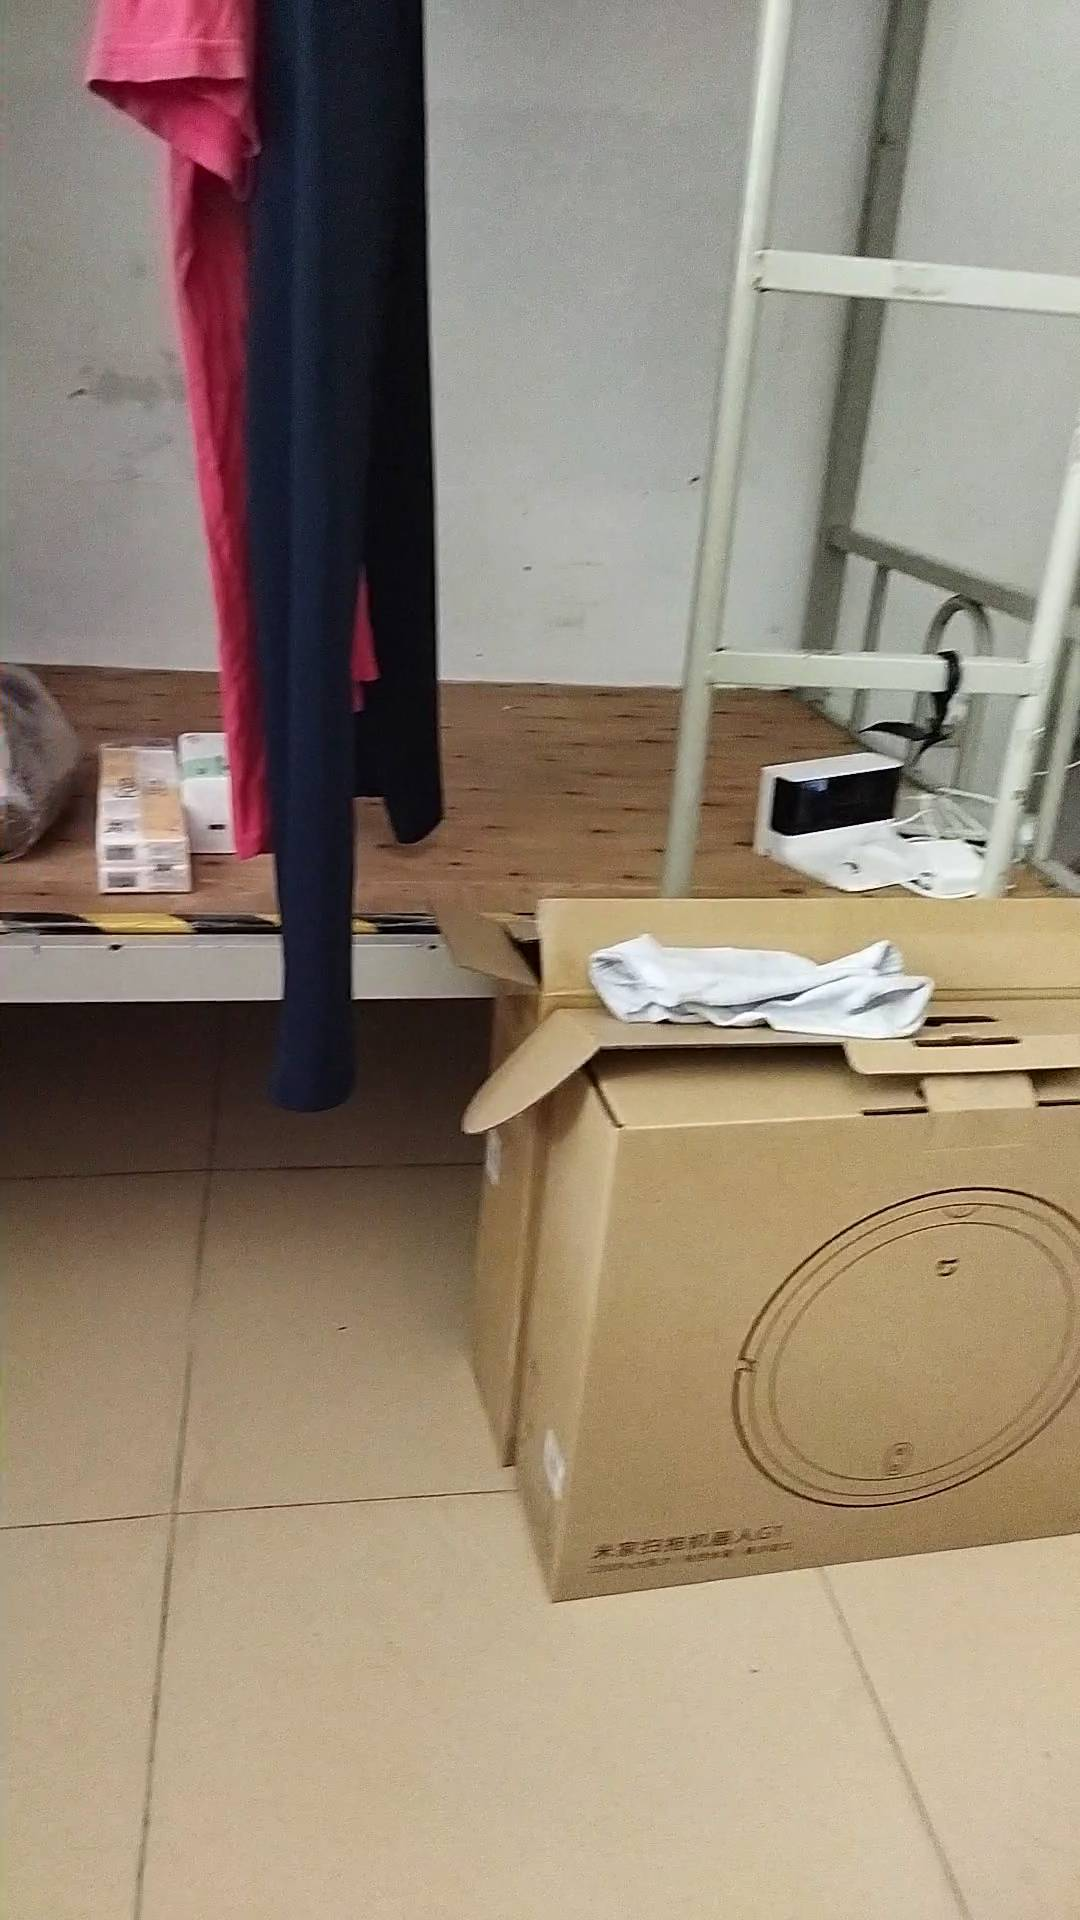recharge seat: (757, 752, 923, 890)
